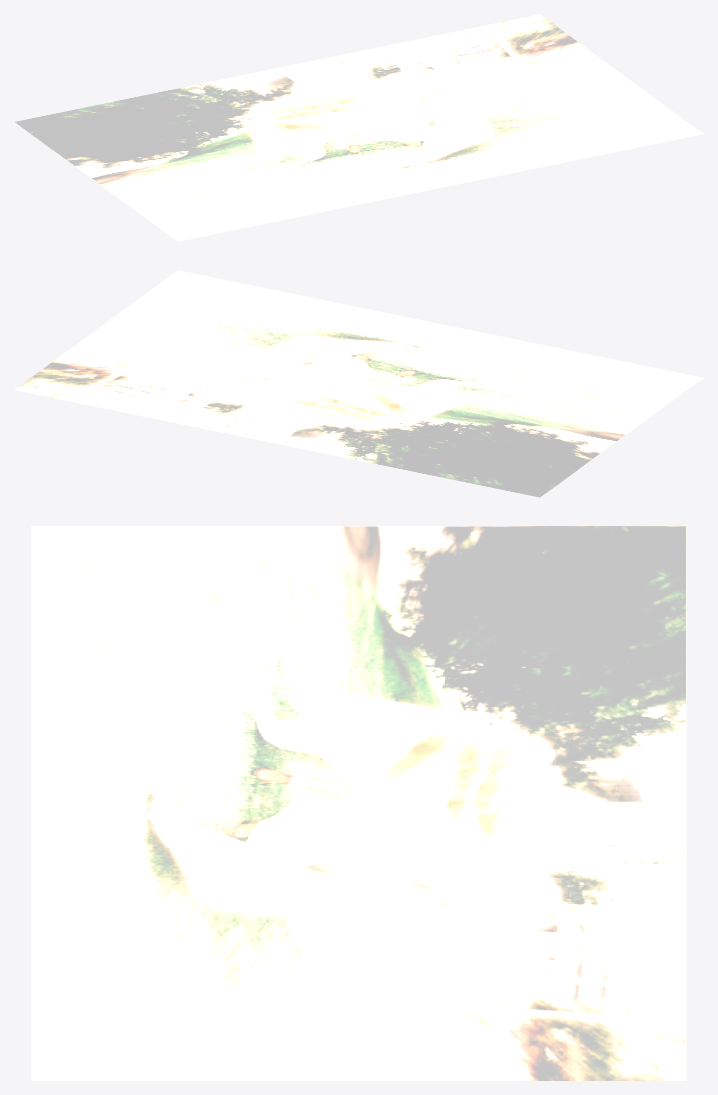
The model's file is registru202.gltf.
The picture shows the model from 3 angles, top to bottom: view 1: azimuth 30°, elevation 25°; view 2: azimuth 150°, elevation 25°; view 3: azimuth 270°, elevation 25°; orthographic projection. The views are drawn at different scales.
Parts seen in each view (by area): view 1: Plano; view 2: Plano; view 3: Plano.
Part boxes in pixels (bbox=[...]): Plano: bbox=[14, 14, 703, 241]; Plano: bbox=[14, 270, 703, 497]; Plano: bbox=[31, 526, 686, 1080].
Bounding box in the file's own units: 13.83 × 0.5203 × 7.46.
